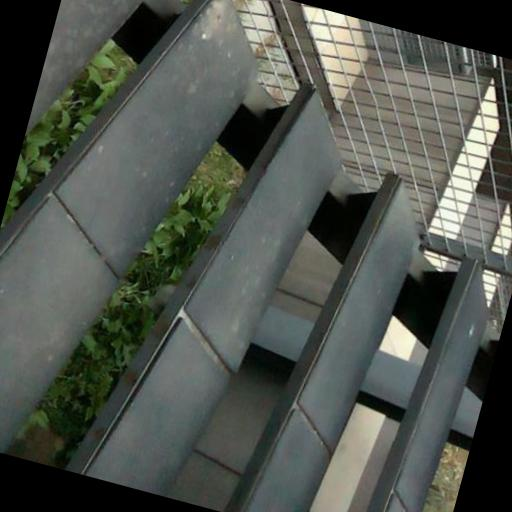stairs: (0, 0, 496, 511)
